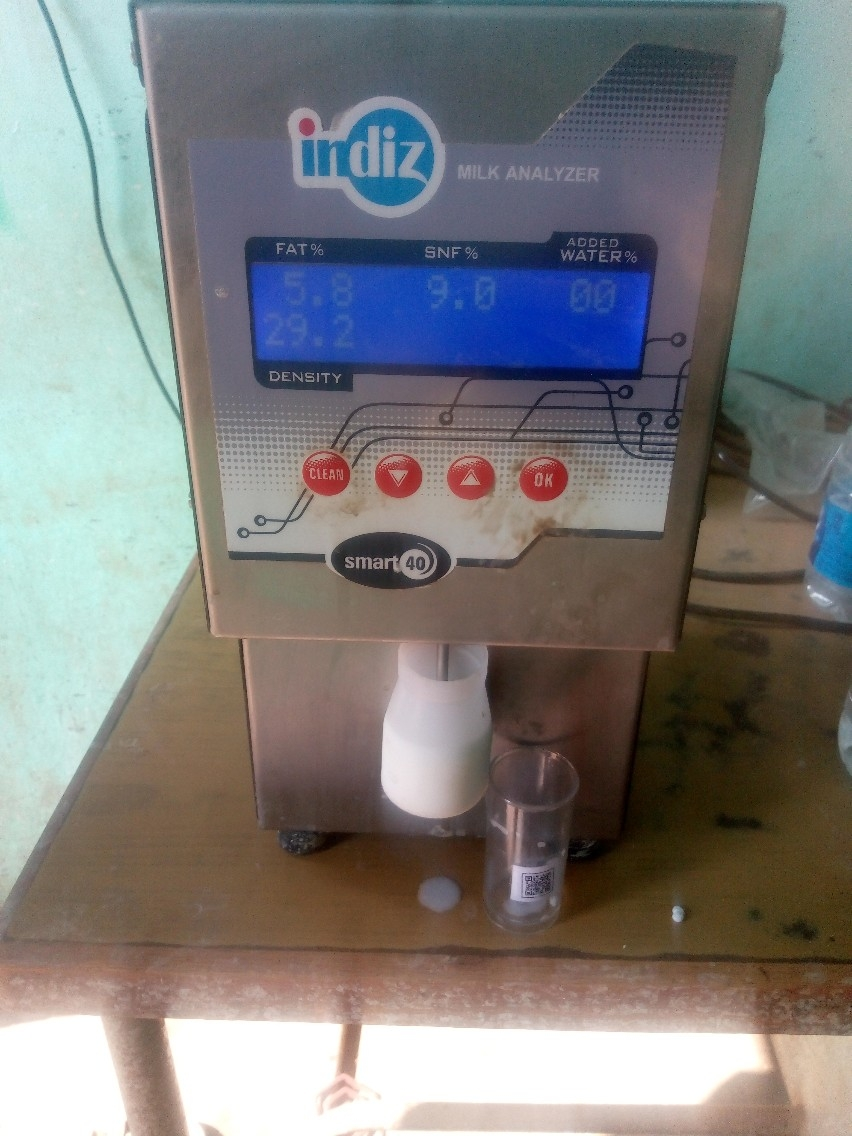lcd: (247, 252, 654, 385)
qr: (516, 866, 567, 902)
